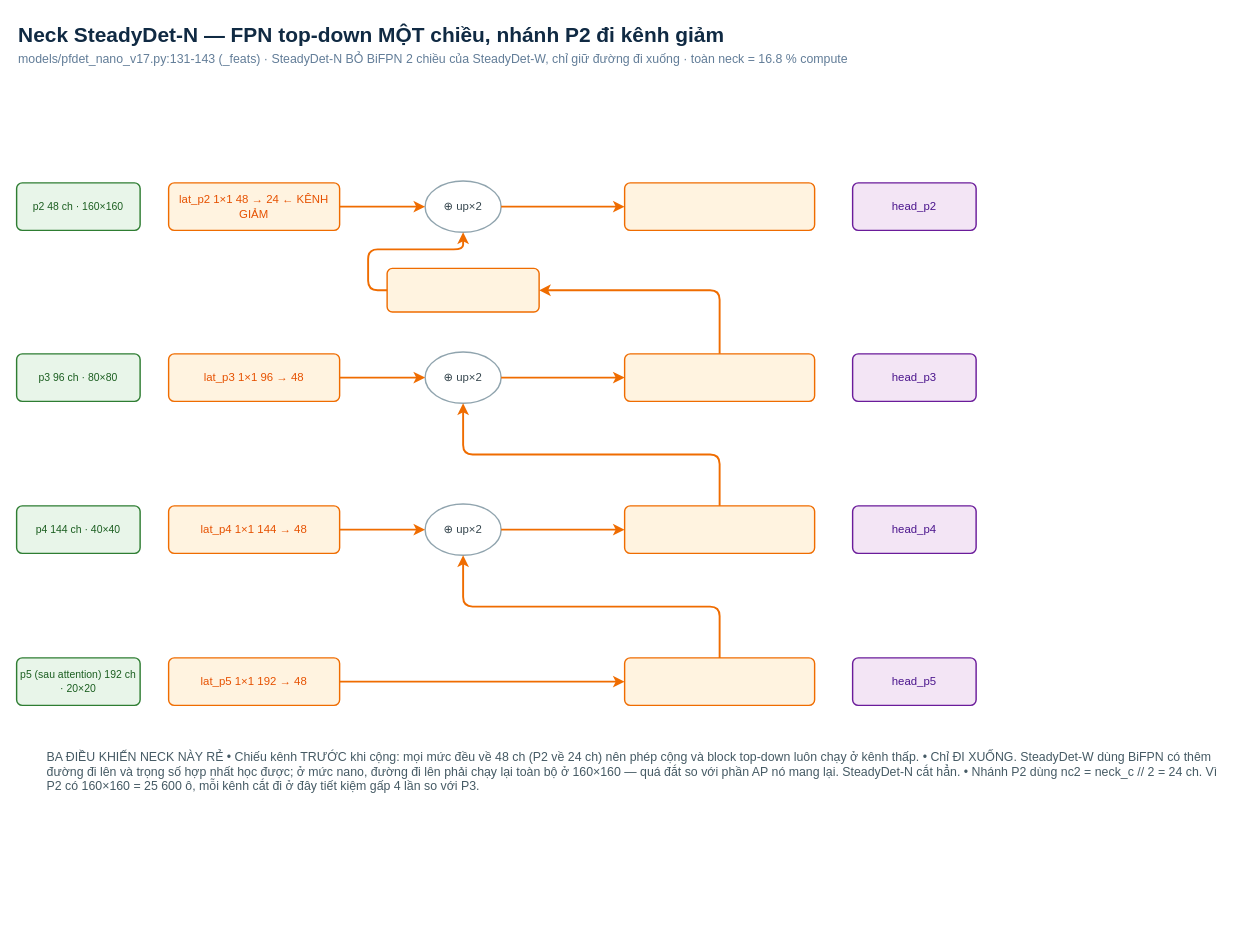
Image size: 1249x949. Some labels were removed from this diagram. The centre of each missing label's shape, as x and y in pixels:
p3_to_p2 1×1 48 → 24: [462,289]
reduce_p5 1×1 → n5 48 ch · 20×20: [719,681]
td_p2 UIBBlock → n2 24 ch · 160×160: [719,206]
td_p3 UIBBlock → n3 48 ch · 80×80: [719,377]
td_p4 UIBBlock → n4 48 ch · 40×40: [719,529]
